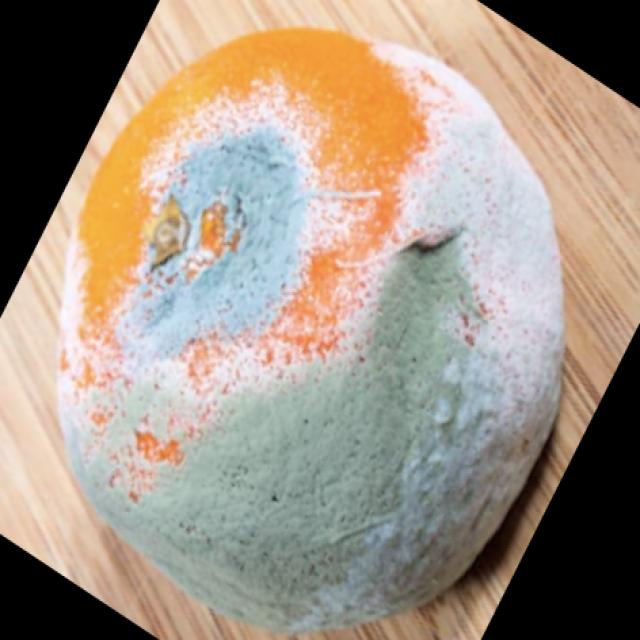sangat_busuk: (59, 23, 565, 631)
